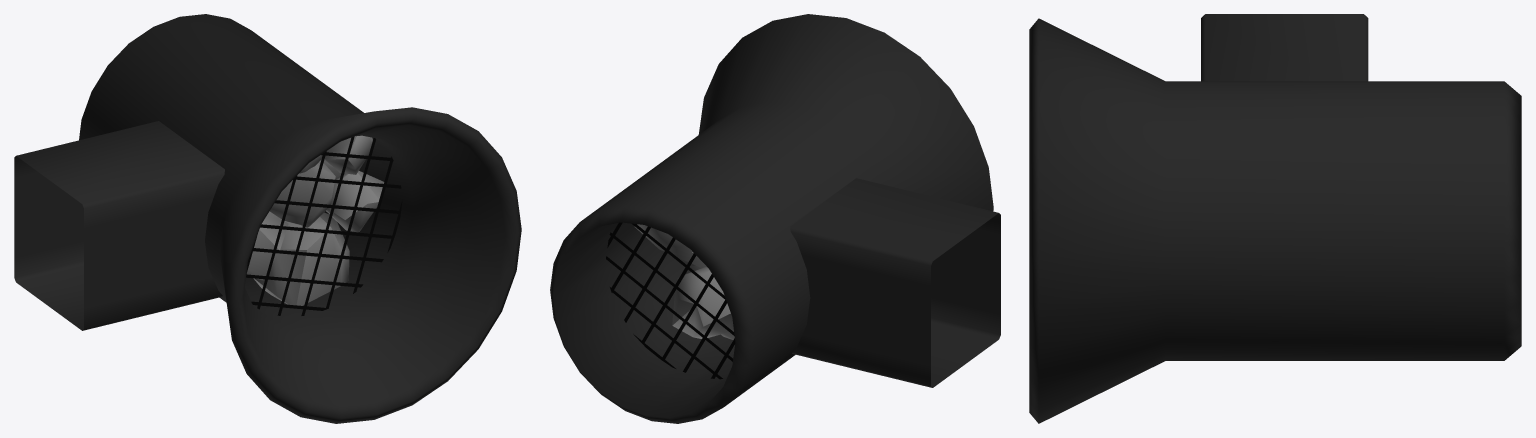
The model's file is stove.fbx.
3 renders of one model, left to right at view 1: azimuth 30°, elevation 25°; view 2: azimuth 150°, elevation 25°; view 3: azimuth 270°, elevation 25°, orthographic. The views are drawn at different scales.
Visible parts, largest first — view 1: stove; view 2: stove; view 3: stove.
Boxes of the visible parts, <box> form: stove: <box>14,14,521,423</box>; stove: <box>550,14,1000,423</box>; stove: <box>1029,14,1521,423</box>.
Bounding box in the file's own units: 67.69 × 53.98 × 65.29.
3 materials, 1 textured.
